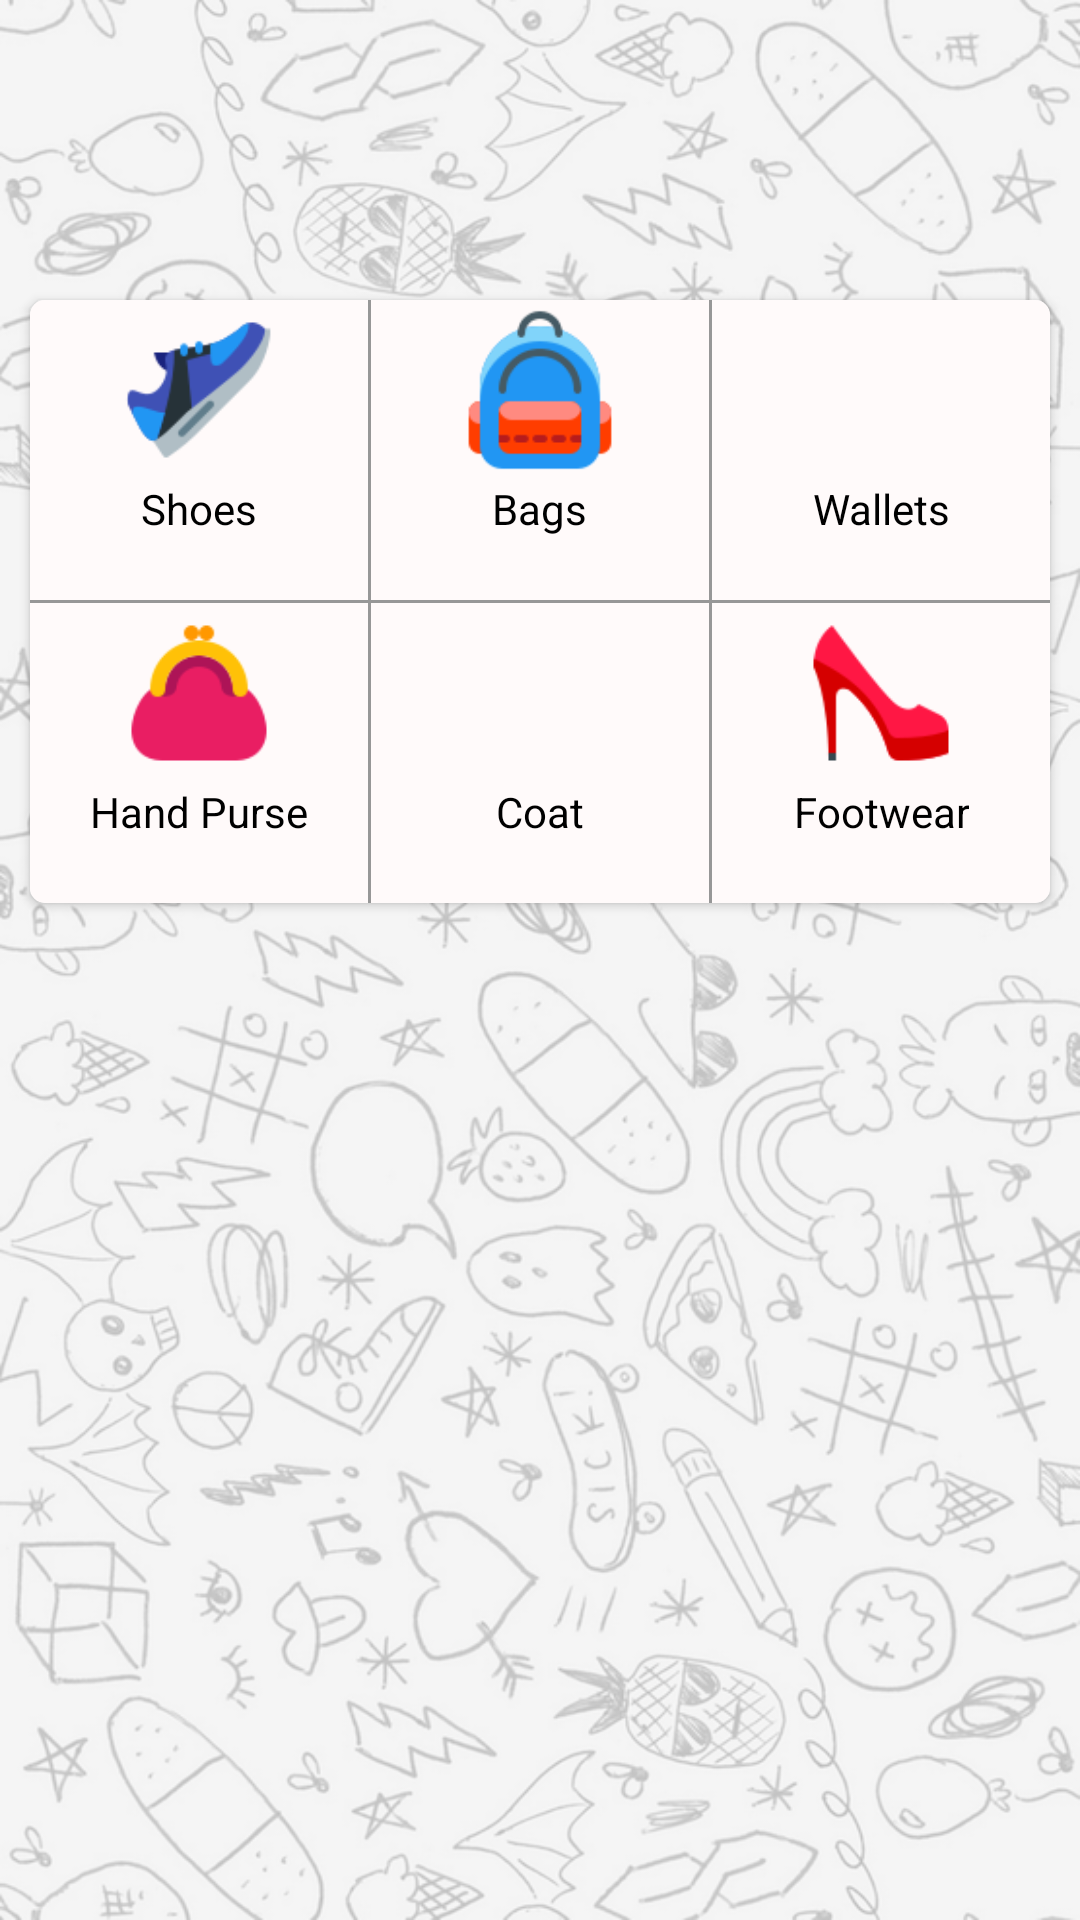

Named icons in this screenshot (1080 × 1920) and their bounding boxes, box=[x1, y1, x2, y2]:
womenshoe: box=[813, 625, 949, 761]
